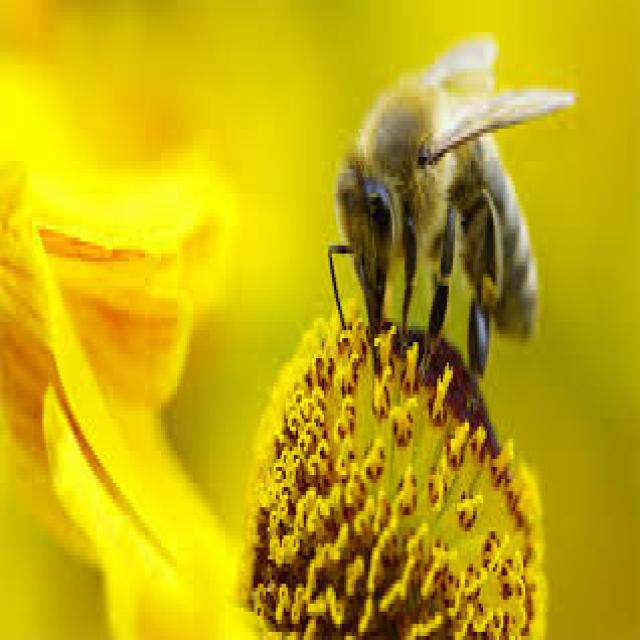Bees: (326, 42, 574, 384)
